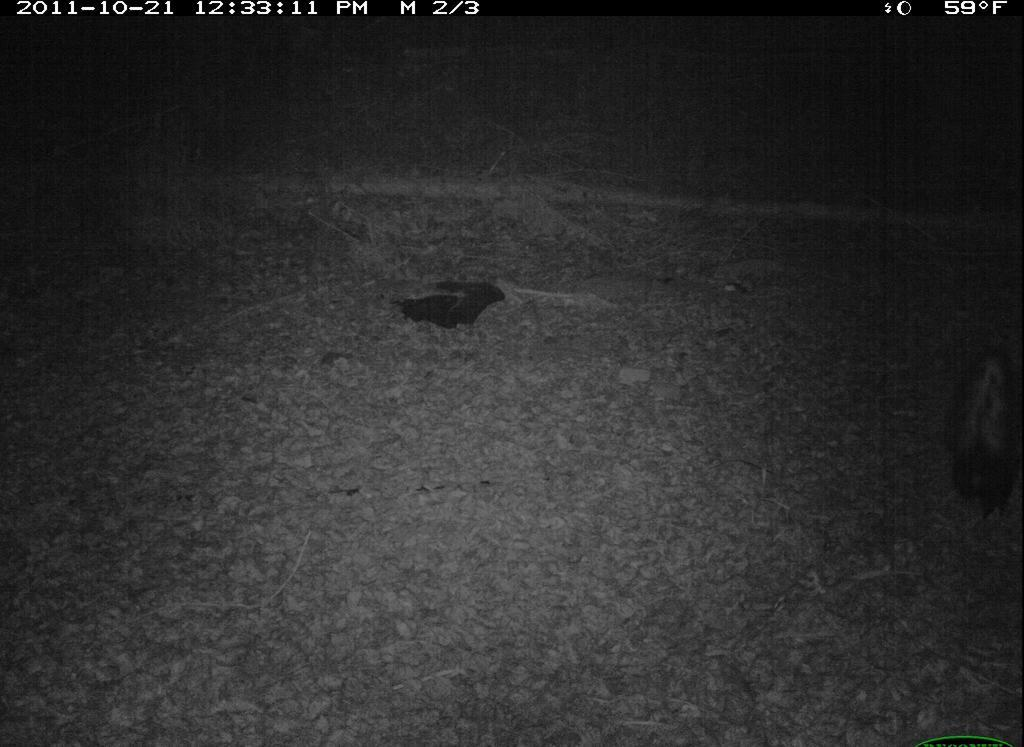skunk: (940, 321, 1023, 532)
